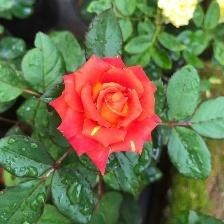rose: (51, 55, 162, 171)
